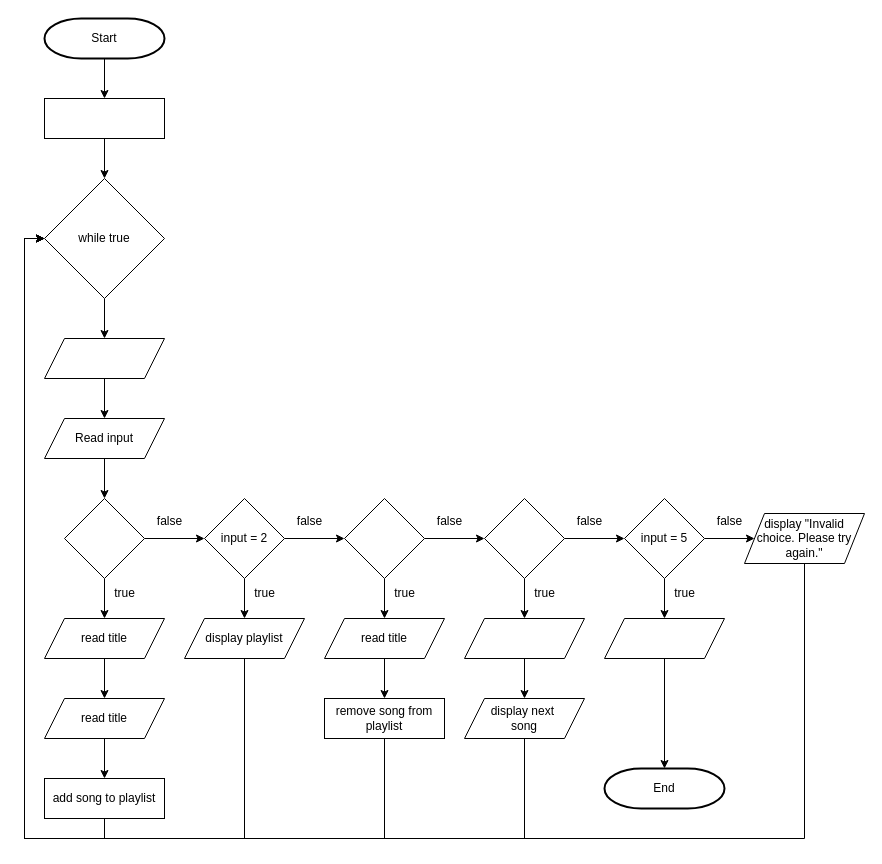
Some shapes in this 882 by 864 pixel diagram are drawn without their labels. Here are the shapes that lost their labels. From the top down, the centre of each, then its label:
the point at 104,118: Initialize input, LinkedList playlist
the point at 104,358: Display Menu
the point at 104,538: input = 1
the point at 384,538: input = 3
the point at 524,538: input = 4
the point at 524,638: display current song
the point at 664,638: display "Exiting playlist"
